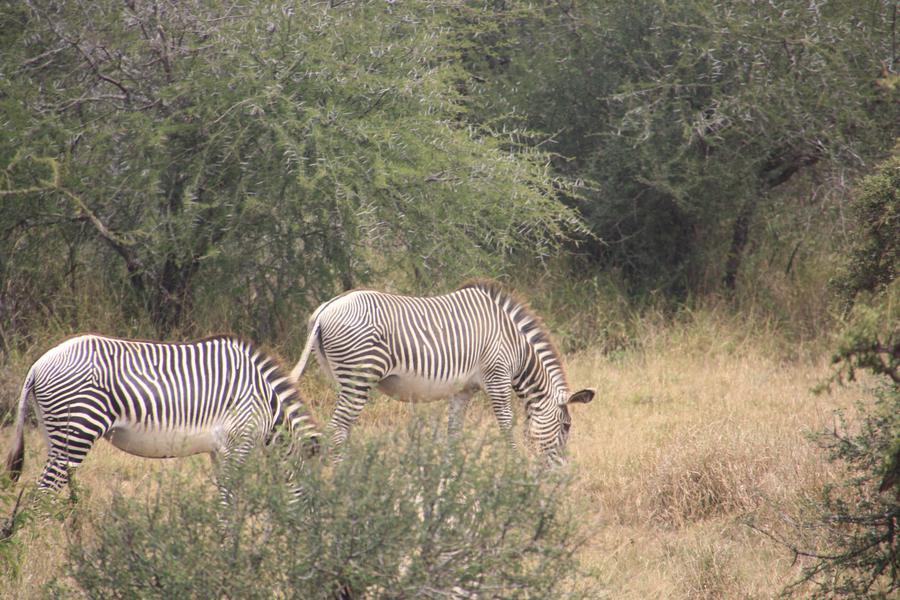zebra_grevys: (310, 290, 516, 381)
